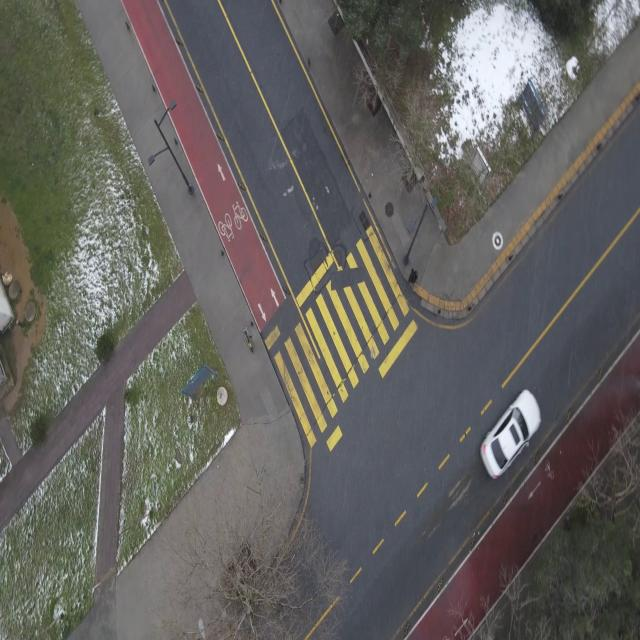p3rson: (406, 268, 418, 284)
